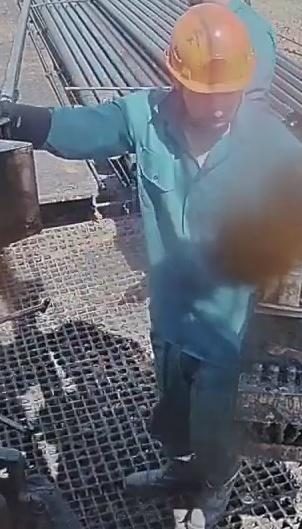gloves: (0, 97, 51, 149)
helmet: (163, 1, 257, 94)
vest: (113, 87, 301, 368)
